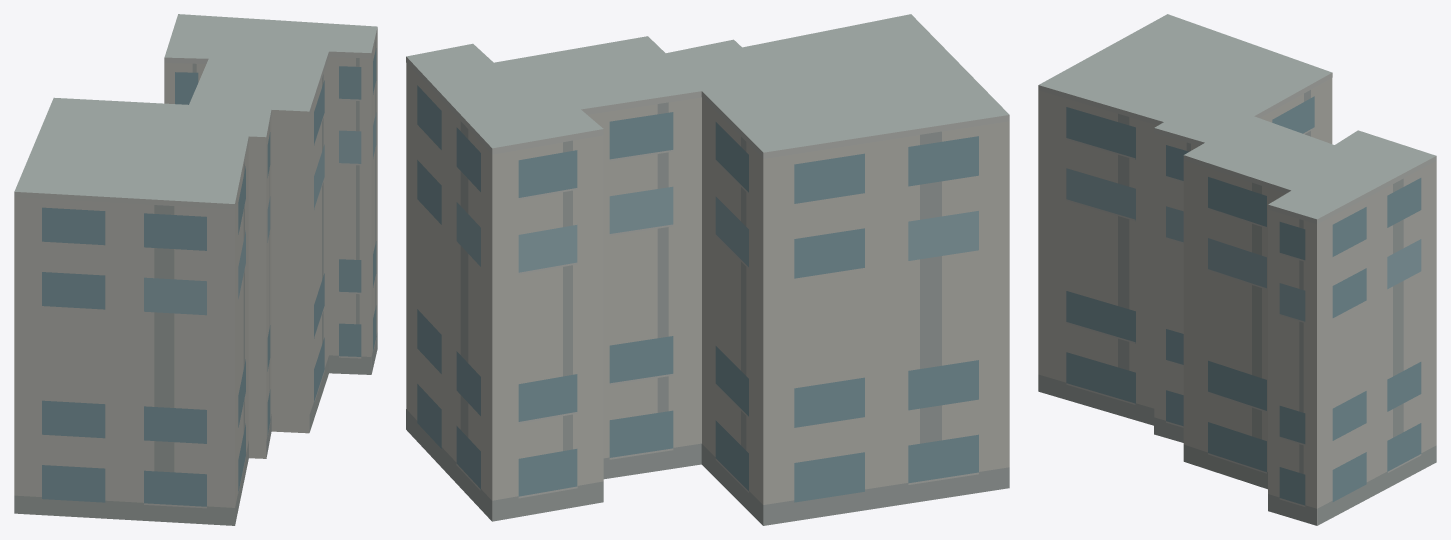
The model's file is survey-upis-32793495.glb.
3 renders of one model, left to right at view 1: azimuth 30°, elevation 25°; view 2: azimuth 150°, elevation 25°; view 3: azimuth 270°, elevation 25°, orthographic. The views are drawn at different scales.
Parts seen in each view (by area): view 1: survey-upis-32793495.tmp; view 2: survey-upis-32793495.tmp; view 3: survey-upis-32793495.tmp.
Part boxes in pixels (left/top/right/bottom): survey-upis-32793495.tmp: left=14, top=14, right=377, bottom=525; survey-upis-32793495.tmp: left=406, top=14, right=1009, bottom=525; survey-upis-32793495.tmp: left=1038, top=14, right=1436, bottom=525.
Bounding box in the file's own units: 20.99 × 14.6 × 17.2.
